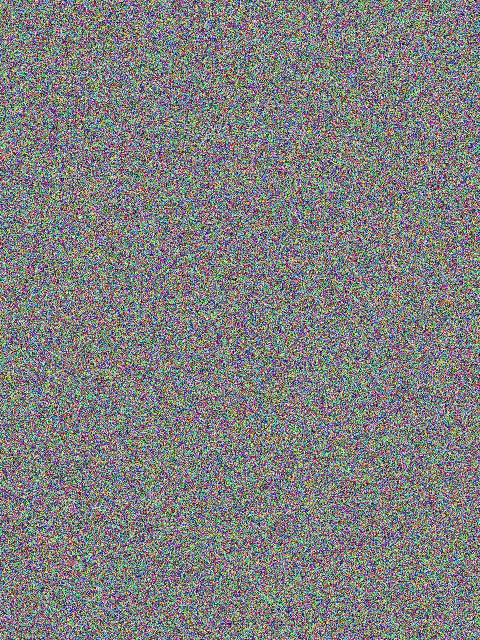car: (233, 53, 316, 150)
